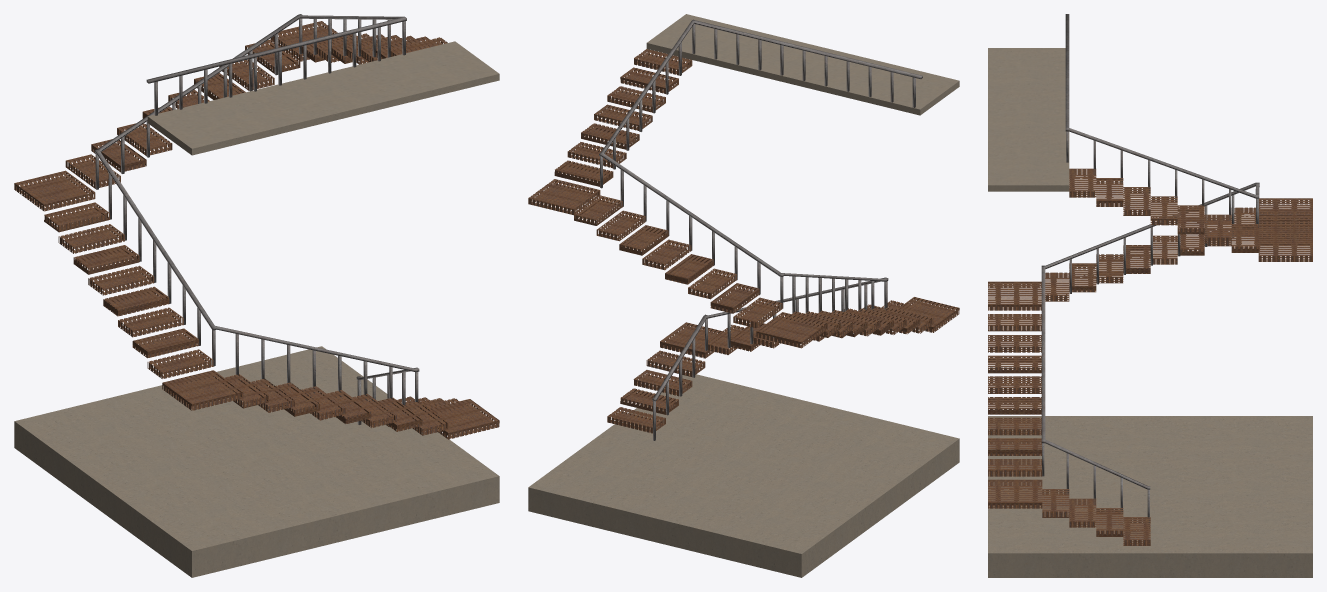
The model's file is staircase.glb.
3 views of the same model, side by side, from view 1: azimuth 30°, elevation 25°; view 2: azimuth 150°, elevation 25°; view 3: azimuth 270°, elevation 25° (orthographic). The views are drawn at different scales.
Visible parts, largest first — view 1: Staircase; view 2: Staircase; view 3: Staircase.
Part boxes in pixels (box(x1,y1,x2,y2)): Staircase: box(14, 14, 499, 577); Staircase: box(528, 14, 959, 577); Staircase: box(988, 14, 1312, 577).
Size of the model in its own units: 12.04 by 17.37 by 12.
3 materials, 3 textured.
